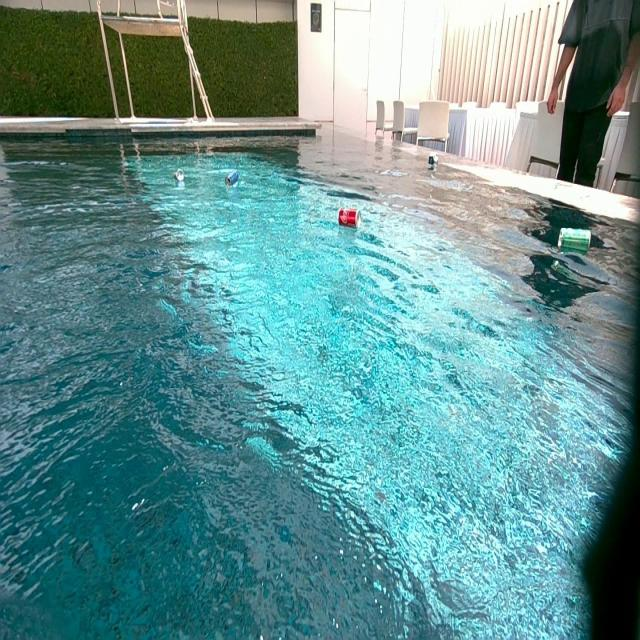Cans: (557, 228, 592, 254), (338, 208, 361, 228), (226, 171, 241, 188), (175, 169, 185, 183), (428, 154, 438, 164)
